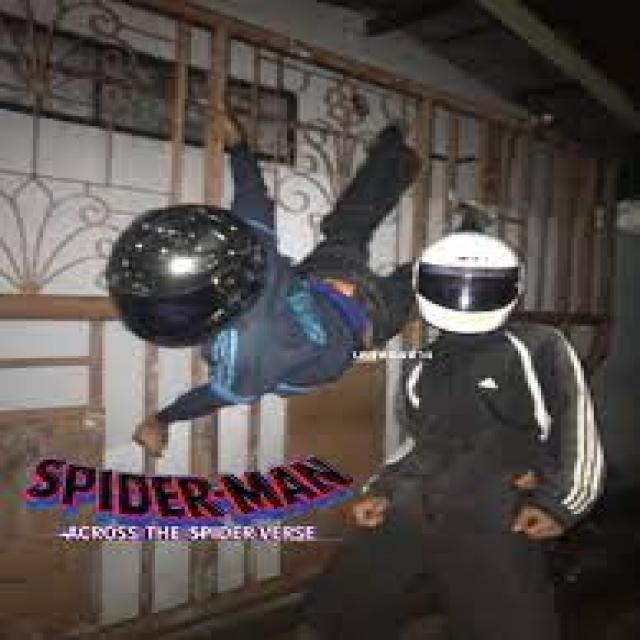helmet: (97, 182, 273, 354), (402, 217, 537, 355)
